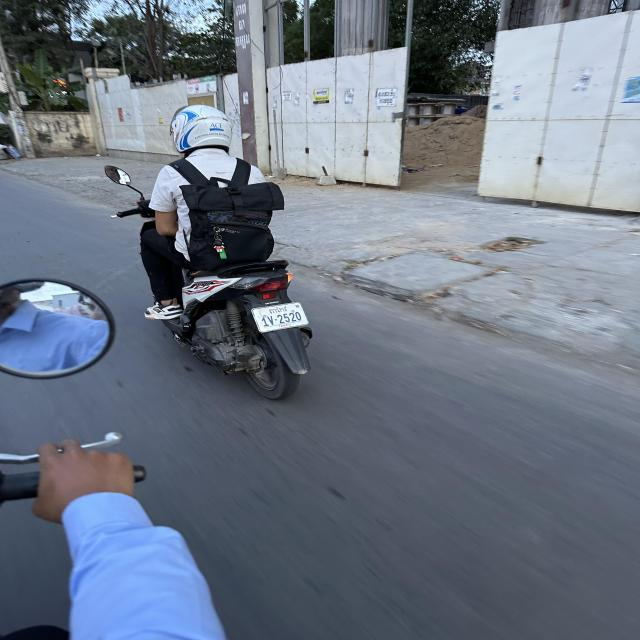Takeo: (268, 305, 288, 315)
